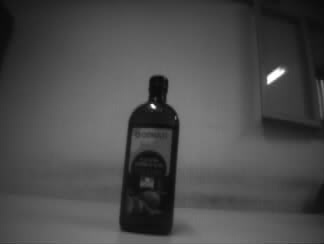Bottle: (118, 73, 182, 236)
